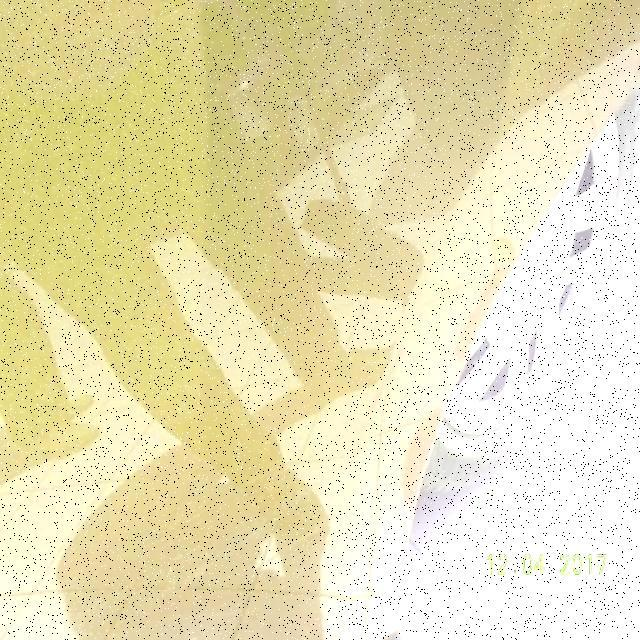car damage: (52, 314, 422, 640)
